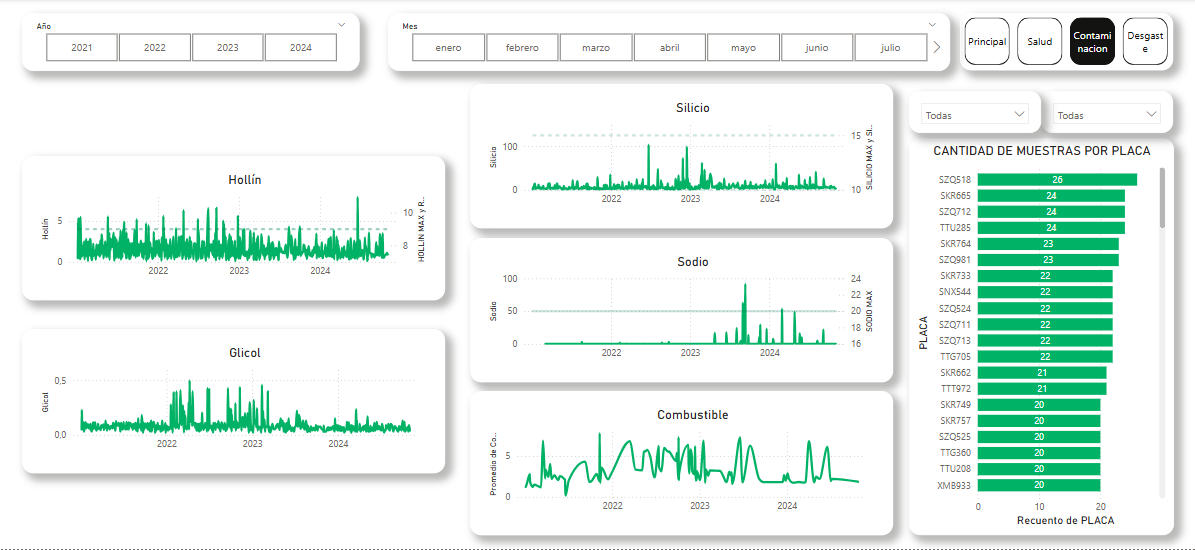

This screenshot's page, from the dashboard's own definition file:
{"tool":"powerbi","page":{"name":"Contaminacion","canvas":[1580,720],"ordinal":2},"visuals":[{"type":"slicer","fields":{"Values":["Historial.FECHA DE TOMA .Variación.Jerarquía de fechas.Año"]},"box":[40.3,18.5,441.8,75.6],"z":0},{"type":"slicer","fields":{"Values":["Historial.FECHA DE TOMA .Variación.Jerarquía de fechas.Mes"]},"box":[519.1,18.5,735.7,75.6],"z":1000},{"type":"pageNavigator","box":[1269.1,18.7,278.6,74.8],"z":2000},{"type":"barChart","title":"CANTIDAD DE MUESTRAS POR PLACA","fields":{"Category":["Historial.PLACA "],"Y":["CountNonNull(Historial.PLACA )"]},"box":[1201.1,181.8,346.6,519.9],"z":3000},{"type":"lineChart","title":"Hollín","fields":{"Y":["Avg(Historial.Hollín)"],"Category":["Historial.FECHA DE TOMA "],"Y2":["CountNonNull(LIMITES.HOLLIN_MAX)","CountNonNull(LIMITES.HOLLIN_MIN)"]},"box":[40.8,205.6,553.8,188.6],"z":5000},{"type":"lineChart","title":"Silicio","fields":{"Y":["Avg(Historial.Si� Silicio)"],"Category":["Historial.FECHA DE TOMA "],"Y2":["Avg(LIMITES.SILICIO_MAX)","Avg(LIMITES.SILICIO_MIN)"]},"box":[626.9,111.4,553.8,188.6],"z":6000},{"type":"lineChart","title":"Glicol","fields":{"Y":["Avg(Historial.Glicol)"],"Category":["Historial.FECHA DE TOMA "]},"box":[40.8,431.5,553.8,188.6],"z":7000},{"type":"lineChart","title":"Sodio","fields":{"Y":["Avg(Historial.Na� Sodio)"],"Category":["Historial.FECHA DE TOMA "],"Y2":["Avg(LIMITES.SODIO_MAX)"]},"box":[626.9,312.6,553.8,188.6],"z":8000},{"type":"lineChart","title":"Combustible","fields":{"Y":["Avg(Historial.Combustible)"],"Category":["Historial.FECHA DE TOMA "]},"box":[626.9,513.1,553.8,188.6],"z":9000},{"type":"slicer","fields":{"Values":["Historial.PLACA "]},"box":[1375,120,173.3,55],"z":9001},{"type":"slicer","fields":{"Values":["Historial.ESTADO "]},"box":[1201.7,120,173.3,55],"z":9002}]}

Visuals, with their boxes in screenshot pixels (x1, y1, x2, y2), scaled from the page's 1580x720 canvas onto the 1195x550 screenshot:
slicer - Historial.FECHA DE TOMA .Variación.Jerarquía de fechas.Año: (x1=30, y1=14, x2=365, y2=72)
slicer - Historial.FECHA DE TOMA .Variación.Jerarquía de fechas.Mes: (x1=393, y1=14, x2=949, y2=72)
pageNavigator: (x1=960, y1=14, x2=1171, y2=71)
"CANTIDAD DE MUESTRAS POR PLACA" barChart: (x1=908, y1=139, x2=1171, y2=536)
"Hollín" lineChart: (x1=31, y1=157, x2=450, y2=301)
"Silicio" lineChart: (x1=474, y1=85, x2=893, y2=229)
"Glicol" lineChart: (x1=31, y1=330, x2=450, y2=474)
"Sodio" lineChart: (x1=474, y1=239, x2=893, y2=383)
"Combustible" lineChart: (x1=474, y1=392, x2=893, y2=536)
slicer - Historial.PLACA : (x1=1040, y1=92, x2=1171, y2=134)
slicer - Historial.ESTADO : (x1=909, y1=92, x2=1040, y2=134)
